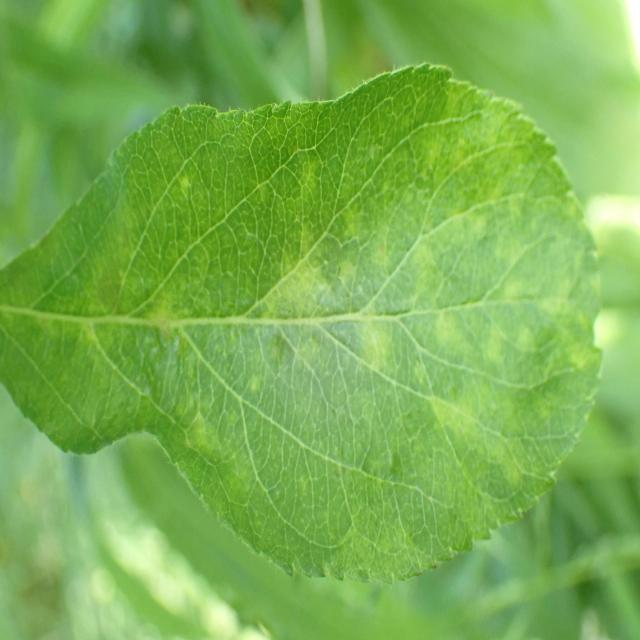scab: (12, 146, 608, 495)
